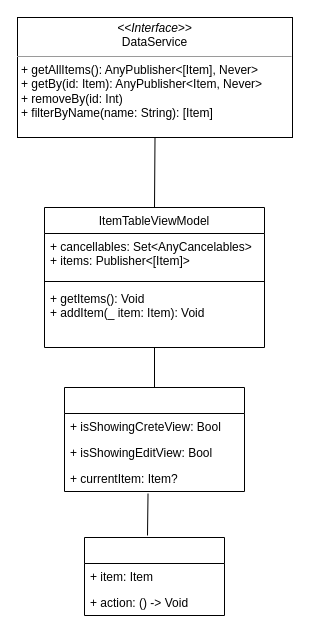
Image size: 310x636. Some labels were removed from this diagram. The shapes that lost their labels are listed below. From the top down, each one's box as (x1, y1, x2, y2) in pixels, then its label:
(64, 386, 244, 492): ItemTableView
(84, 536, 224, 616): ItemRowView
